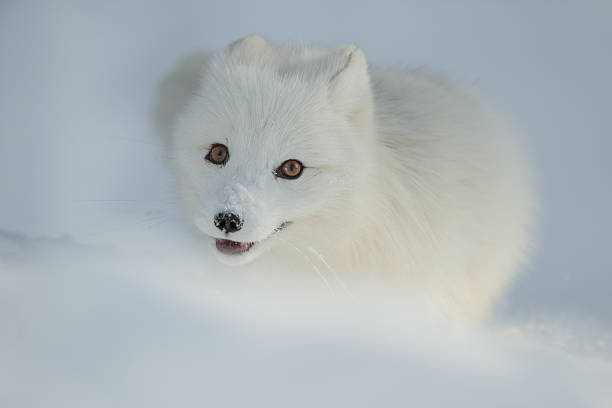arcticfox: (184, 83, 331, 268)
